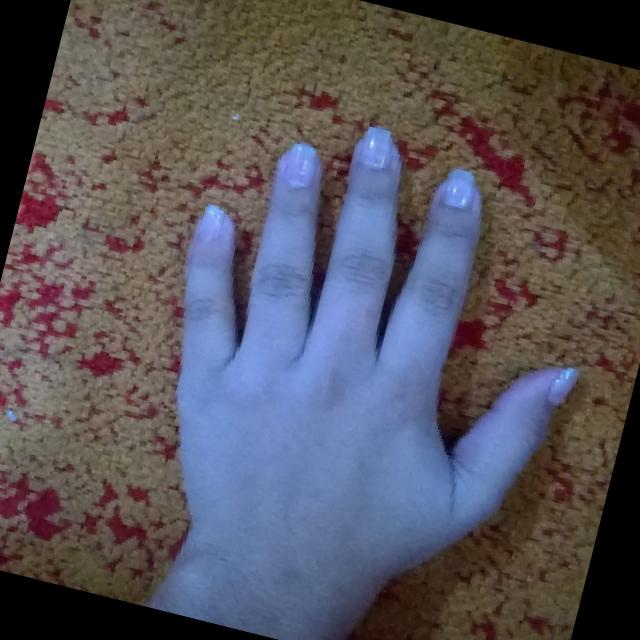Nail: (282, 143, 317, 188), (359, 127, 393, 169), (442, 168, 476, 208), (546, 367, 579, 407), (197, 204, 225, 241)
